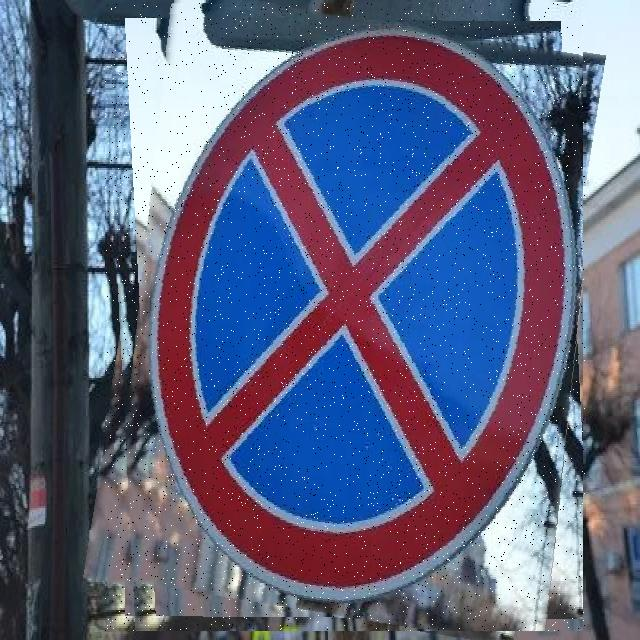no stopping: (105, 3, 586, 631)
